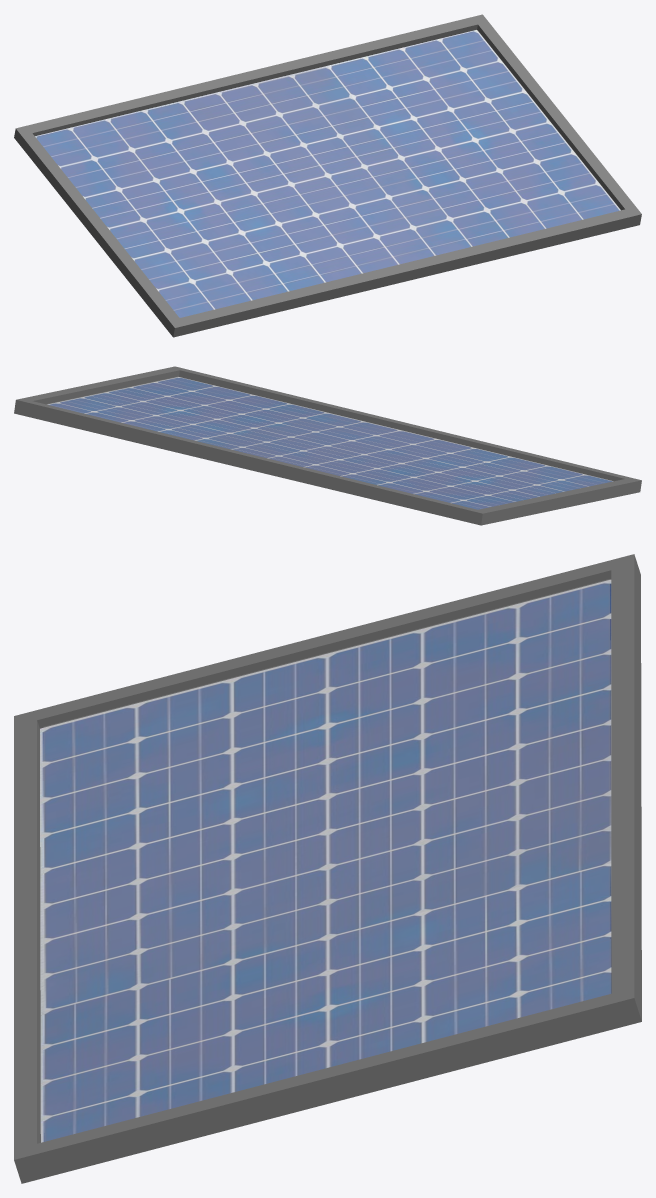
Rendered from BuildingASolarPanel1.glb.
The picture shows the model from 3 angles, top to bottom: view 1: azimuth 30°, elevation 25°; view 2: azimuth 150°, elevation 25°; view 3: azimuth 270°, elevation 25°; orthographic projection. The views are drawn at different scales.
Parts seen in each view (by area): view 1: SolarCells, Laminatedfilm, AluminiumFrame; view 2: SolarCells, Laminatedfilm, AluminiumFrame; view 3: SolarCells, Laminatedfilm, AluminiumFrame.
Part boxes in pixels (left/top/right/bottom): SolarCells: left=35, top=30, right=620, bottom=317; Laminatedfilm: left=36, top=31, right=620, bottom=317; AluminiumFrame: left=14, top=14, right=641, bottom=337; SolarCells: left=48, top=377, right=612, bottom=509; Laminatedfilm: left=47, top=377, right=612, bottom=509; AluminiumFrame: left=14, top=366, right=641, bottom=525; SolarCells: left=40, top=579, right=611, bottom=1142; Laminatedfilm: left=44, top=579, right=610, bottom=1141; AluminiumFrame: left=14, top=554, right=641, bottom=1183.
Size of the model in its own units: 7.66 by 1.5 by 4.58.
14 materials, 1 textured.
